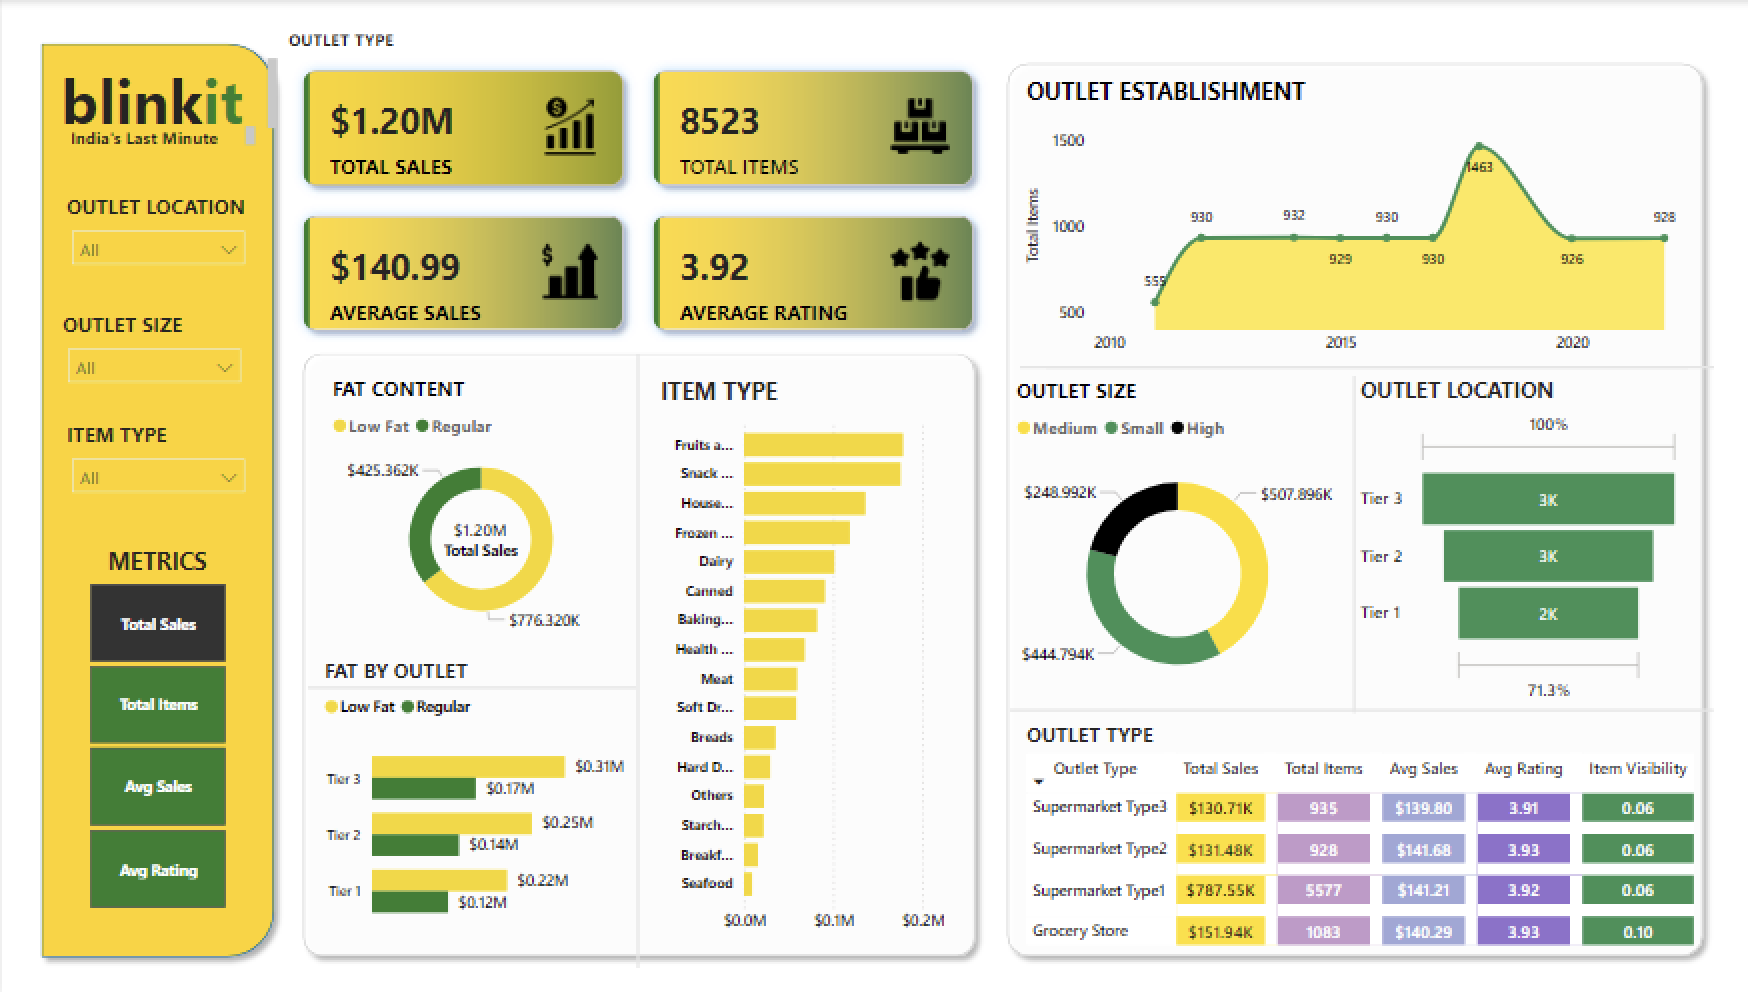

The dashboard page shown, as its layout file describes it:
{"tool":"powerbi","page":{"name":"Dashboard","canvas":[1400,800],"ordinal":0},"visuals":[{"type":"shape","box":[22.7,25.2,204.3,749.2],"z":0},{"type":"textbox","box":[22.4,41.6,203.2,70.4],"z":1000},{"type":"textbox","box":[49.6,96,158.4,30.4],"z":2000},{"type":"cardVisual","title":"OUTLET TYPE","fields":{"Data":["BlinkIT Grocery Data.Total Sales","BlinkIT Grocery Data.Total Items","BlinkIT Grocery Data.Avg Sales","BlinkIT Grocery Data.Avg Rating"]},"box":[224.5,22.8,570.7,260.6],"z":3000},{"type":"shape","box":[232.1,273.9,555.4,500.3],"z":4000},{"type":"donutChart","title":"FAT CONTENT","fields":{"Y":["BlinkIT Grocery Data.Avg Rating"],"Category":["BlinkIT Grocery Data.Item Fat Content"]},"box":[259.2,299.2,248,214.4],"z":5000},{"type":"slicer","title":"METRICS","fields":{"Values":["Metrics.Metrics"]},"box":[44.8,435.2,158.4,297.6],"z":6000},{"type":"cardVisual","fields":{"Data":["BlinkIT Grocery Data.Total Sales"]},"box":[324.8,382.4,116.8,99.2],"z":7000},{"type":"clusteredBarChart","title":"FAT BY OUTLET","fields":{"Y":["BlinkIT Grocery Data.Avg Rating"],"Series":["BlinkIT Grocery Data.Item Fat Content"],"Category":["BlinkIT Grocery Data.Outlet Location Type"]},"box":[252.8,524.8,249.6,230.4],"z":8000},{"type":"shape","box":[245.4,545.9,262.5,9.5],"z":9000},{"type":"shape","box":[502.4,283.2,12.8,491.2],"z":10000},{"type":"clusteredBarChart","title":"ITEM TYPE","fields":{"Y":["BlinkIT Grocery Data.Avg Rating"],"Category":["BlinkIT Grocery Data.Item Type"]},"box":[521.6,299.2,236.8,456],"z":11000},{"type":"shape","box":[795.1,41.8,574.5,732.3],"z":12000},{"type":"lineChart","title":"OUTLET ESTABLISHMENT","fields":{"Category":["BlinkIT Grocery Data.Outlet Establishment Year"],"Y":["BlinkIT Grocery Data.Total Items"]},"box":[814.1,59,534.5,234],"z":13000},{"type":"shape","box":[814.1,283.4,534.5,20.9],"z":14000},{"type":"donutChart","title":"OUTLET SIZE","fields":{"Y":["BlinkIT Grocery Data.Total Sales"],"Category":["BlinkIT Grocery Data.Outlet Size"]},"box":[806.5,300.5,268.2,266.3],"z":15000},{"type":"shape","box":[835.1,283.4,534.5,20.9],"z":16000},{"type":"shape","box":[1074.7,300.5,13.3,270.1],"z":17000},{"type":"funnel","title":"OUTLET LOCATION","fields":{"Y":["BlinkIT Grocery Data.Total Items"],"Category":["BlinkIT Grocery Data.Outlet Location Type"]},"box":[1082.3,298.6,266.3,268.2],"z":18000},{"type":"pivotTable","title":"OUTLET TYPE","fields":{"Rows":["BlinkIT Grocery Data.Outlet Type"],"Values":["BlinkIT Grocery Data.Total Sales","BlinkIT Grocery Data.Total Items","BlinkIT Grocery Data.Avg Sales","BlinkIT Grocery Data.Avg Rating","Avg(BlinkIT Grocery Data.Item Visibility)"]},"box":[814.1,570.7,568.8,203.5],"z":19000},{"type":"shape","box":[806.5,566.8,563,3.8],"z":20000},{"type":"slicer","title":"OUTLET LOCATION","fields":{"Values":["BlinkIT Grocery Data.Outlet Location Type"]},"box":[45.7,154.1,157.9,70.4],"z":20001},{"type":"slicer","title":"OUTLET SIZE","fields":{"Values":["BlinkIT Grocery Data.Outlet Size"]},"box":[43.8,247.3,157.9,70.4],"z":20002},{"type":"slicer","title":"ITEM TYPE","fields":{"Values":["BlinkIT Grocery Data.Item Type"]},"box":[45.7,336.7,157.9,70.4],"z":20003}]}

Visuals, with their boxes in screenshot pixels (x1, y1, x2, y2), scaled from the page's 1400x800 canvas onto the 1748x992 screenshot:
shape: <box>28,31,283,960</box>
textbox: <box>28,52,282,139</box>
textbox: <box>62,119,260,157</box>
"OUTLET TYPE" cardVisual: <box>280,28,993,351</box>
shape: <box>290,340,983,960</box>
"FAT CONTENT" donutChart: <box>324,371,633,637</box>
"METRICS" slicer: <box>56,540,254,909</box>
cardVisual - BlinkIT Grocery Data.Total Sales: <box>406,474,551,597</box>
"FAT BY OUTLET" clusteredBarChart: <box>316,651,627,936</box>
shape: <box>306,677,634,689</box>
shape: <box>627,351,643,960</box>
"ITEM TYPE" clusteredBarChart: <box>651,371,947,936</box>
shape: <box>993,52,1710,960</box>
"OUTLET ESTABLISHMENT" lineChart: <box>1016,73,1684,363</box>
shape: <box>1016,351,1684,377</box>
"OUTLET SIZE" donutChart: <box>1007,373,1342,703</box>
shape: <box>1043,351,1710,377</box>
shape: <box>1342,373,1358,708</box>
"OUTLET LOCATION" funnel: <box>1351,370,1684,703</box>
"OUTLET TYPE" pivotTable: <box>1016,708,1727,960</box>
shape: <box>1007,703,1710,708</box>
"OUTLET LOCATION" slicer: <box>57,191,254,278</box>
"OUTLET SIZE" slicer: <box>55,307,252,394</box>
"ITEM TYPE" slicer: <box>57,418,254,505</box>
